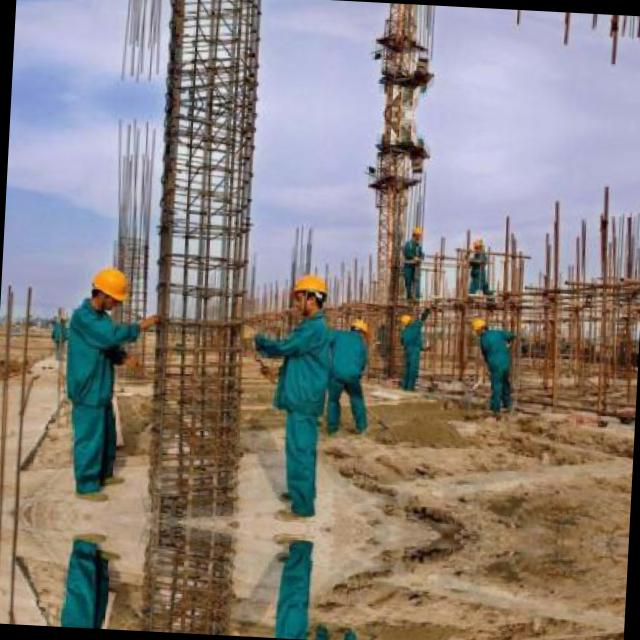helmet: (84, 260, 130, 315), (286, 268, 332, 322), (347, 314, 370, 336), (468, 315, 492, 336), (406, 220, 426, 242), (398, 310, 416, 330), (470, 232, 487, 252), (418, 4, 438, 10)
